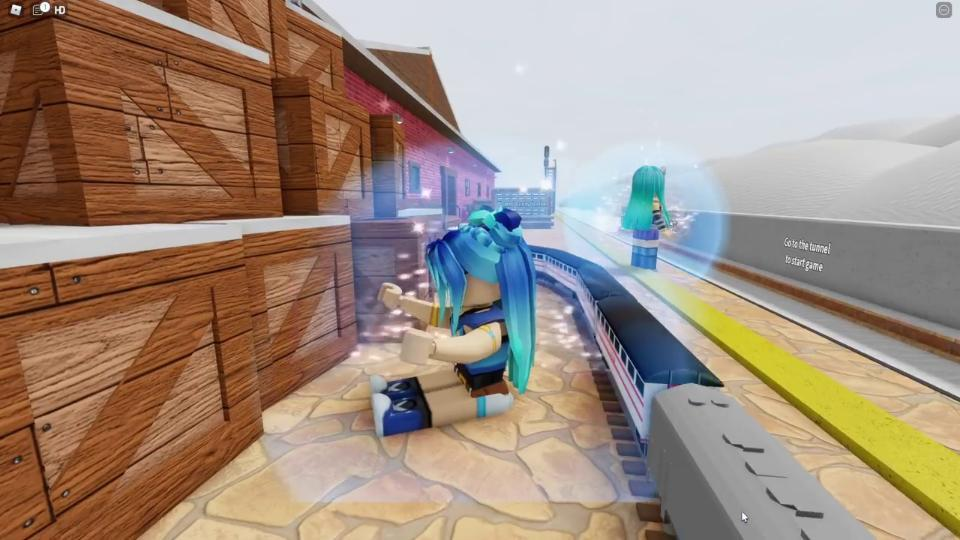Character: (369, 206, 536, 439), (621, 165, 678, 272)
